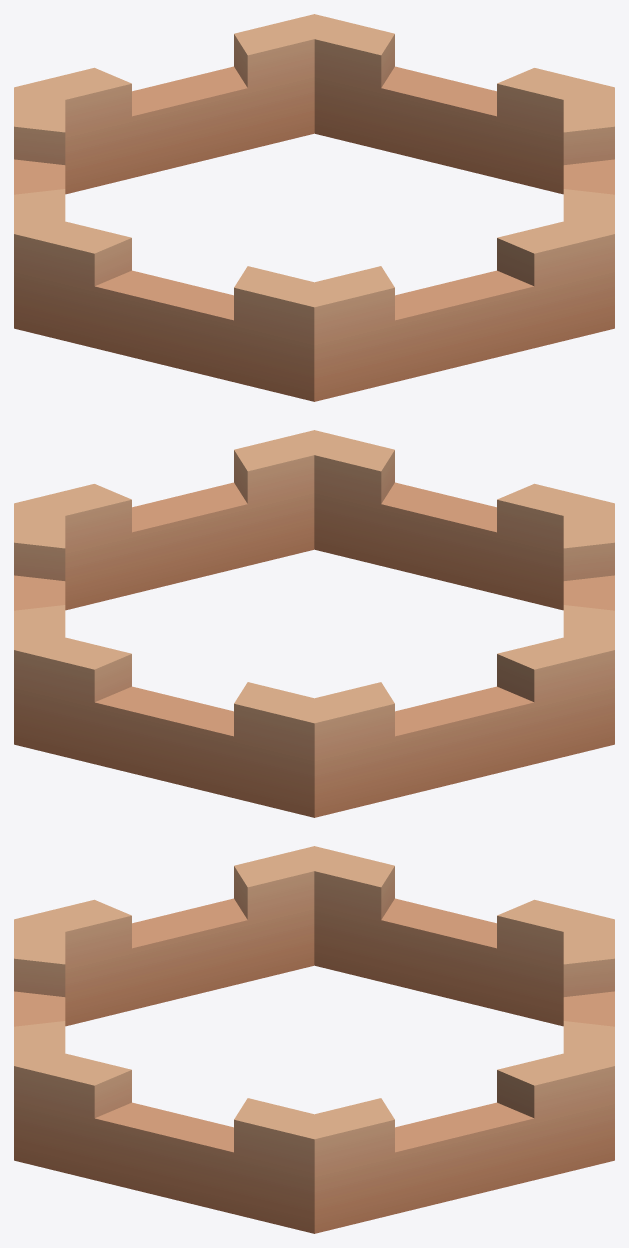
File: tower-hexagon-top.glb
3 views of the same model, one above another, from view 1: azimuth 30°, elevation 25°; view 2: azimuth 150°, elevation 25°; view 3: azimuth 270°, elevation 25° (orthographic).
Visible parts, largest first — view 1: tower-hexagon-top; view 2: tower-hexagon-top; view 3: tower-hexagon-top.
Boxes of the visible parts, x1,y1,x2,y2 form: tower-hexagon-top: (14, 14, 614, 401); tower-hexagon-top: (14, 430, 614, 817); tower-hexagon-top: (14, 846, 614, 1233).
Bounding box in the file's own units: 0.864 × 0.1299 × 0.7483.
Materials: 1 (1 with a texture image).
